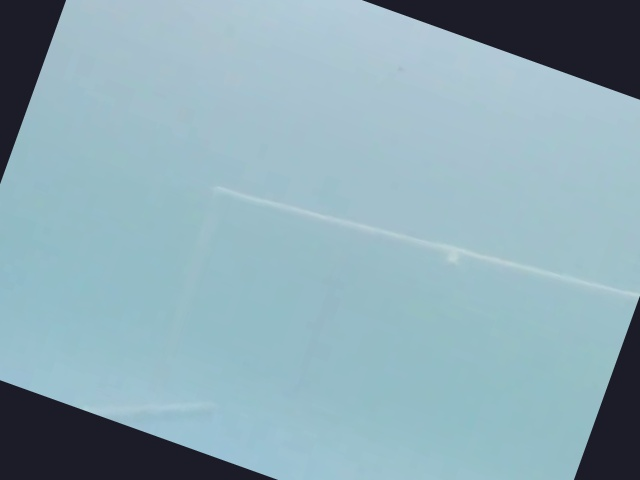gate: (108, 166, 637, 428)
